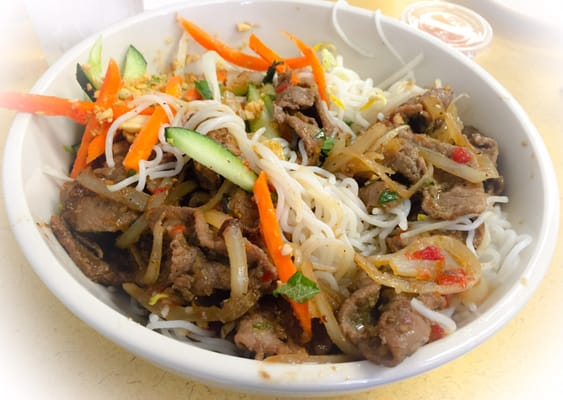sushi: (9, 0, 549, 393)
